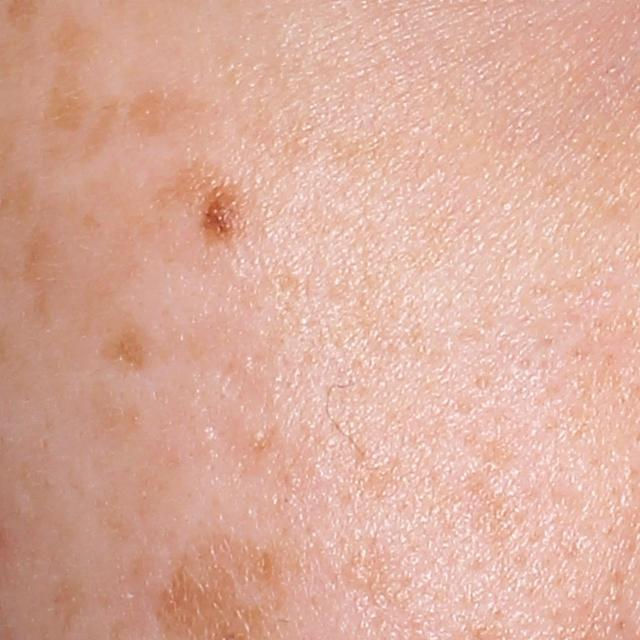melasma: (38, 6, 105, 137), (124, 79, 203, 134), (74, 87, 122, 167), (151, 157, 213, 216), (93, 329, 161, 379)
nevus: (191, 186, 244, 245)
